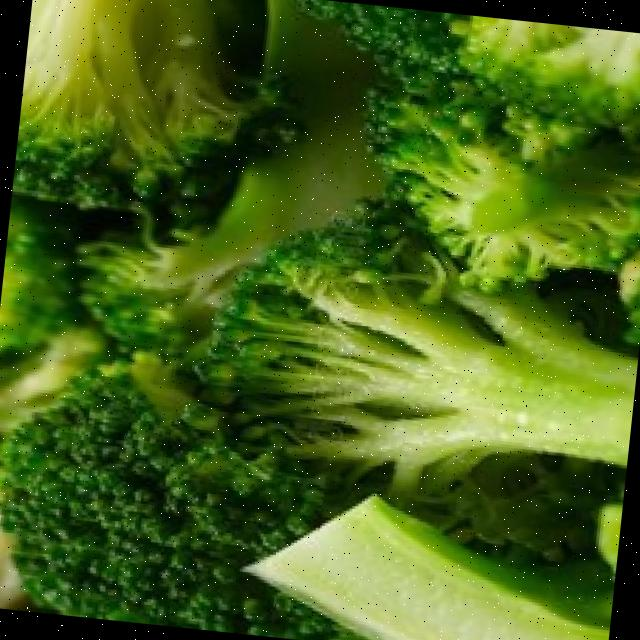Broccoli: (0, 373, 354, 640), (0, 373, 354, 640), (12, 109, 296, 242), (12, 115, 289, 238), (299, 0, 466, 96), (298, 0, 462, 94)
